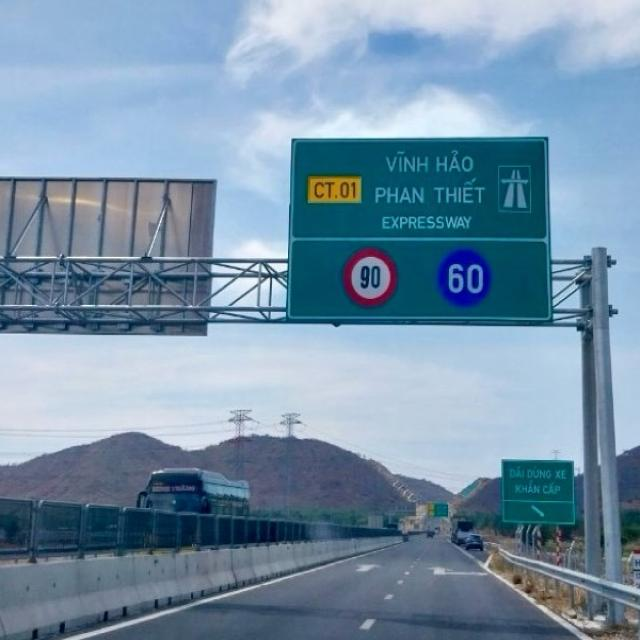Speed Limit -90-: (343, 247, 398, 307)
